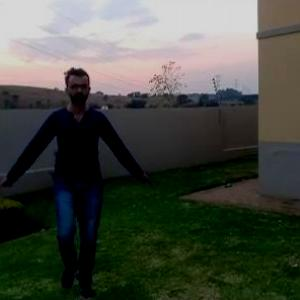land: (1, 62, 148, 299)
